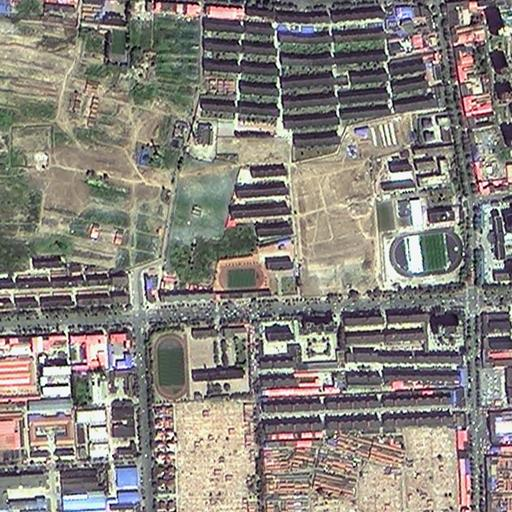school: (371, 144, 467, 290), (147, 319, 253, 402), (211, 236, 300, 295)
